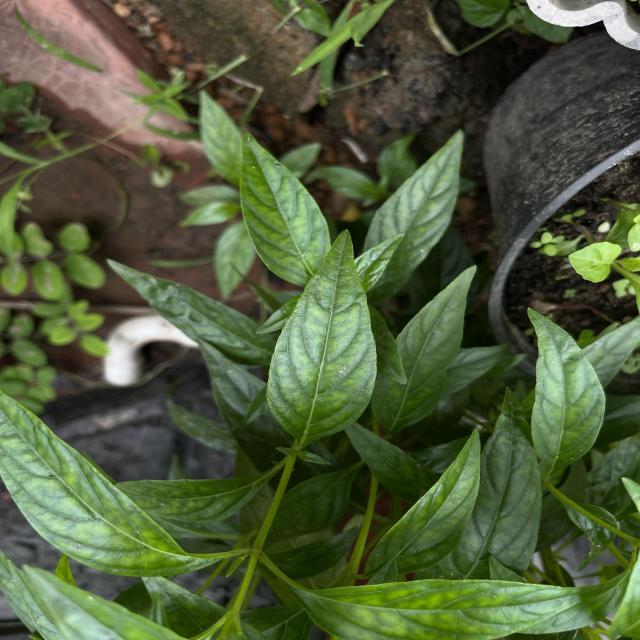Andrographis paniculata: (0, 380, 213, 580), (263, 226, 378, 446), (286, 577, 620, 640), (373, 259, 478, 436), (362, 427, 483, 580), (102, 257, 272, 365), (361, 127, 465, 280), (238, 132, 332, 288), (526, 302, 606, 474)
